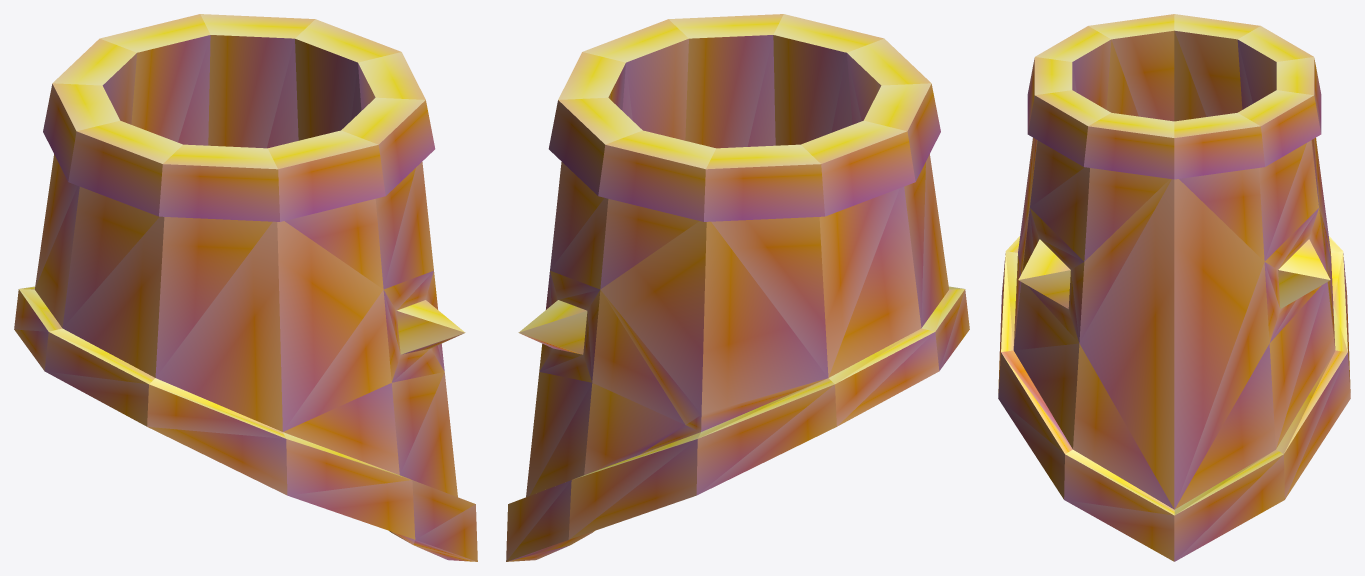
File: gauntlet.fbx
3 views of the same model, side by side, from view 1: azimuth 30°, elevation 25°; view 2: azimuth 150°, elevation 25°; view 3: azimuth 270°, elevation 25° (orthographic). The views are drawn at different scales.
Parts seen in each view (by area): view 1: gauntlet; view 2: gauntlet; view 3: gauntlet.
Part boxes in pixels (x1,y1,x2,y2): gauntlet: [14, 14, 477, 561]; gauntlet: [506, 14, 969, 561]; gauntlet: [998, 14, 1350, 561].
Bounding box in the file's own units: 98.01 × 121 × 94.95.
